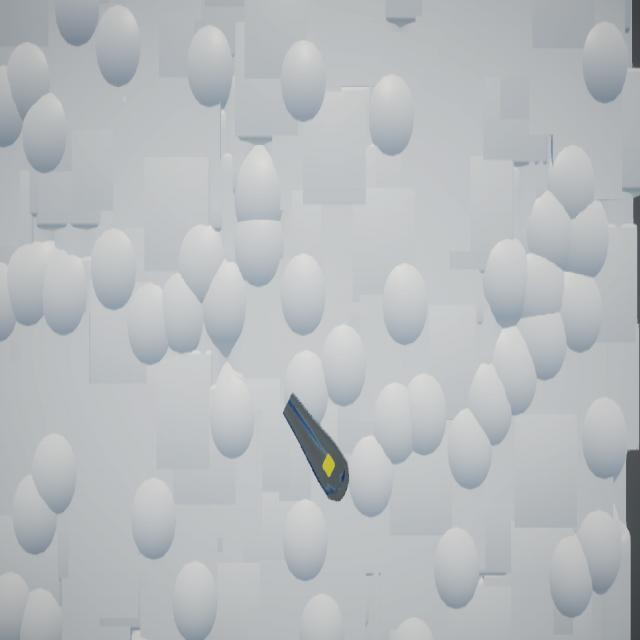handle_knife: (284, 394, 351, 504)
